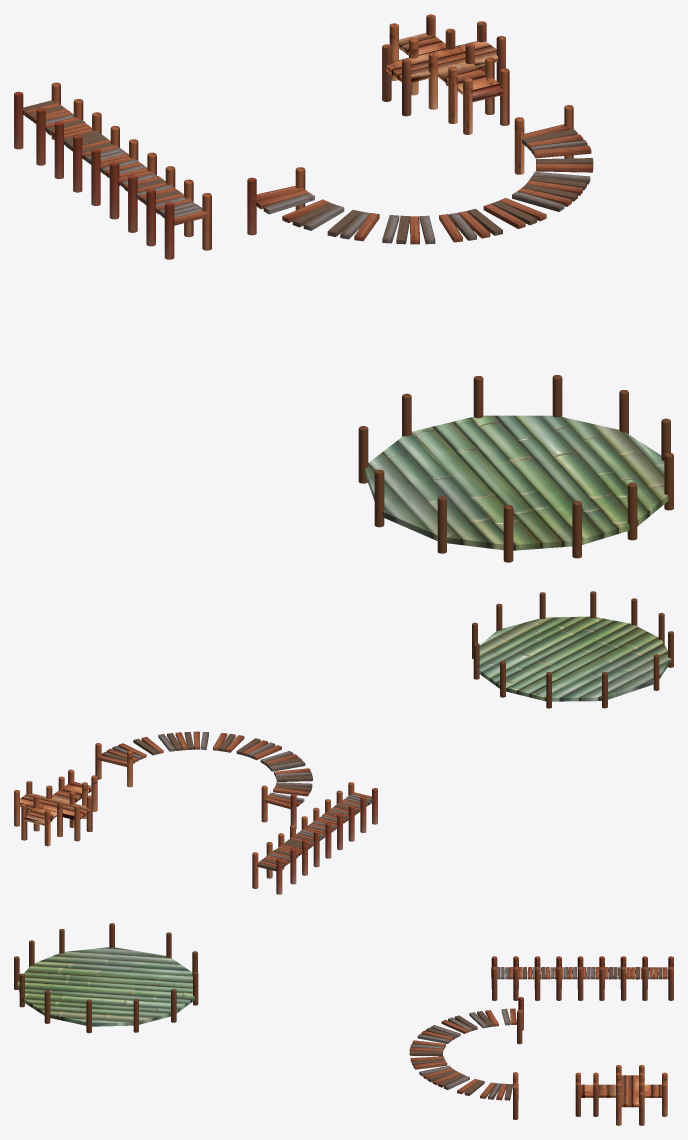
Rendered from level_01_mod 1.fbx.
3 views of the same model, one above another, from view 1: azimuth 30°, elevation 25°; view 2: azimuth 150°, elevation 25°; view 3: azimuth 270°, elevation 25° (orthographic). The views are drawn at different scales.
Parts seen in each view (by area): view 1: end__stage, curve_path1, long_pillar, end_pillar, pillars, long_way, stage, curve_pillar; view 2: end__stage, curve_path1, long_pillar, end_pillar, pillars, long_way, stage, curve_pillar; view 3: end__stage, curve_path1, long_pillar, end_pillar, long_way, pillars, stage, curve_pillar.
Boxes of the visible parts, box(x1,y1,x2,y2) form: end__stage: box(365, 415, 668, 550); curve_path1: box(253, 124, 593, 244); long_pillar: box(14, 82, 211, 259); end_pillar: box(358, 375, 673, 562); pillars: box(382, 14, 509, 134); long_way: box(22, 100, 208, 225); stage: box(386, 33, 502, 102); curve_pillar: box(247, 105, 573, 235); end__stage: box(478, 616, 671, 701); curve_path1: box(97, 731, 312, 809); long_pillar: box(252, 782, 377, 894); end_pillar: box(472, 591, 673, 708); pillars: box(14, 769, 97, 846); long_way: box(257, 792, 372, 871); stage: box(19, 781, 91, 825); curve_pillar: box(95, 743, 296, 829); end__stage: box(17, 947, 194, 1026); curve_path1: box(409, 1008, 523, 1100); long_pillar: box(491, 956, 673, 1000); end_pillar: box(14, 923, 198, 1033); long_way: box(491, 967, 668, 979); pillars: box(575, 1065, 667, 1125); stage: box(581, 1075, 661, 1107); curve_pillar: box(513, 997, 523, 1119).
Size of the model in its own units: 82644 by 10113 by 143334.
